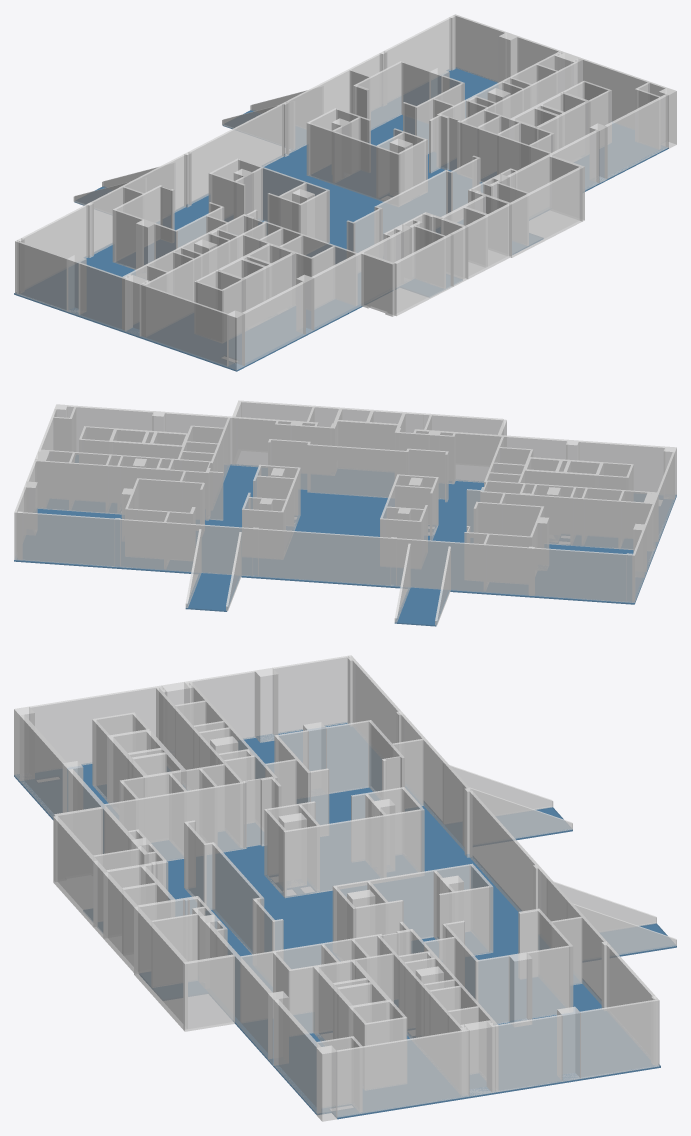
The model's file is 1FJC.glb.
3 renders of one model, top to bottom at view 1: azimuth 30°, elevation 25°; view 2: azimuth 150°, elevation 25°; view 3: azimuth 270°, elevation 25°, orthographic. The views are drawn at different scales.
Parts seen in each view (by area): view 1: 楼板 建筑做法110 [2354585].41, 基本墙 钢筋混凝土 F1 300 [2359620].139, 基本墙 轻钢龙骨石膏板墙 F1 200 [2420925].172, 基本墙 轻钢龙骨石膏板墙 F1 200 [2356234].49, 基本墙 轻钢龙骨石膏板墙 F1 200 [2358266].125, 基本墙 轻钢龙骨石膏板墙 F1 200 [2420795].171, 基本墙 钢筋混凝土 F1 300 [2359622].140, 基本墙 钢筋混凝土 F1 300 [2359632].145, 基本墙 轻钢龙骨石膏板墙 F1 300 [2358403].126, 基本墙 钢筋混凝土 F1 300 [2359630].144, 基本墙 轻钢龙骨石膏板墙 F1 200 [2421287].174, 基本墙 轻钢龙骨石膏板墙 F1 200 [2356253].67 (+49 smaller); view 2: 楼板 建筑做法110 [2354585].41, 基本墙 轻钢龙骨石膏板墙 F1 200 [2420925].172, 基本墙 轻钢龙骨石膏板墙 F1 200 [2420795].171, 基本墙 轻钢龙骨石膏板墙 F1 200 [2421287].174, 基本墙 轻钢龙骨石膏板墙 F1 200 [2356249].63, 基本墙 轻钢龙骨石膏板墙 F1 200 [2354484].12, 基本墙 钢筋混凝土 F1 300 [2359620].139, 基本墙 轻钢龙骨石膏板墙 F1 200 [2421195].173, 基本墙 轻钢龙骨石膏板墙 F1 200 [2357088].116, 基本墙 钢筋混凝土 F1 300 [2359632].145, 基本墙 轻钢龙骨石膏板墙 F1 300 [2358403].126, 基本墙 轻钢龙骨石膏板墙 F1 200 [2356245].60 (+48 smaller); view 3: 楼板 建筑做法110 [2354585].41, 基本墙 轻钢龙骨石膏板墙 F1 200 [2357079].108, 基本墙 轻钢龙骨石膏板墙 F1 200 [2420528].168, 基本墙 钢筋混凝土 F1 300 [2359620].139, 基本墙 轻钢龙骨石膏板墙 F1 200 [2354488].16, 基本墙 轻钢龙骨石膏板墙 F1 200 [2420925].172, 基本墙 轻钢龙骨石膏板墙 F1 200 [2356231].46, 基本墙 轻钢龙骨石膏板墙 F1 200 [2358266].125, 基本墙 轻钢龙骨石膏板墙 F1 200 [2420393].167, 基本墙 轻钢龙骨石膏板墙 F1 200 [2357982].123, 基本墙 轻钢龙骨石膏板墙 F1 200 [2420795].171, 基本墙 钢筋混凝土 F1 300 [2359622].140 (+68 smaller).
Part boxes in pixels (bbox=[...]): 楼板 建筑做法110 [2354585].41: bbox=[14, 67, 668, 371]; 基本墙 钢筋混凝土 F1 300 [2359620].139: bbox=[490, 94, 668, 197]; 基本墙 轻钢龙骨石膏板墙 F1 200 [2420925].172: bbox=[21, 154, 185, 258]; 基本墙 轻钢龙骨石膏板墙 F1 200 [2356234].49: bbox=[308, 123, 400, 201]; 基本墙 轻钢龙骨石膏板墙 F1 200 [2358266].125: bbox=[139, 283, 227, 366]; 基本墙 轻钢龙骨石膏板墙 F1 200 [2420795].171: bbox=[188, 103, 283, 204]; 基本墙 钢筋混凝土 F1 300 [2359622].140: bbox=[509, 167, 582, 257]; 基本墙 钢筋混凝土 F1 300 [2359632].145: bbox=[311, 231, 403, 330]; 基本墙 轻钢龙骨石膏板墙 F1 300 [2358403].126: bbox=[242, 281, 305, 365]; 基本墙 钢筋混凝土 F1 300 [2359630].144: bbox=[394, 233, 453, 316]; 基本墙 轻钢龙骨石膏板墙 F1 200 [2421287].174: bbox=[286, 53, 381, 153]; 基本墙 轻钢龙骨石膏板墙 F1 200 [2356253].67: bbox=[458, 121, 551, 182]; 楼板 建筑做法110 [2354585].41: bbox=[14, 464, 676, 626]; 基本墙 轻钢龙骨石膏板墙 F1 200 [2420925].172: bbox=[396, 538, 626, 602]; 基本墙 轻钢龙骨石膏板墙 F1 200 [2420795].171: bbox=[258, 528, 390, 585]; 基本墙 轻钢龙骨石膏板墙 F1 200 [2421287].174: bbox=[120, 519, 252, 576]; 基本墙 轻钢龙骨石膏板墙 F1 200 [2356249].63: bbox=[35, 460, 209, 520]; 基本墙 轻钢龙骨石膏板墙 F1 200 [2354484].12: bbox=[480, 491, 652, 550]; 基本墙 钢筋混凝土 F1 300 [2359620].139: bbox=[67, 405, 315, 467]; 基本墙 轻钢龙骨石膏板墙 F1 200 [2421195].173: bbox=[16, 511, 114, 566]; 基本墙 轻钢龙骨石膏板墙 F1 200 [2357088].116: bbox=[307, 444, 406, 498]; 基本墙 钢筋混凝土 F1 300 [2359632].145: bbox=[440, 431, 567, 482]; 基本墙 轻钢龙骨石膏板墙 F1 300 [2358403].126: bbox=[578, 440, 665, 492]; 基本墙 轻钢龙骨石膏板墙 F1 200 [2356245].60: bbox=[139, 478, 204, 524]; 楼板 建筑做法110 [2354585].41: bbox=[14, 722, 676, 1119]; 基本墙 轻钢龙骨石膏板墙 F1 200 [2357079].108: bbox=[283, 809, 421, 898]; 基本墙 轻钢龙骨石膏板墙 F1 200 [2420528].168: bbox=[336, 1029, 469, 1117]; 基本墙 钢筋混凝土 F1 300 [2359620].139: bbox=[193, 909, 320, 1113]; 基本墙 轻钢龙骨石膏板墙 F1 200 [2354488].16: bbox=[104, 782, 244, 861]; 基本墙 轻钢龙骨石膏板墙 F1 200 [2420925].172: bbox=[352, 660, 469, 853]; 基本墙 轻钢龙骨石膏板墙 F1 200 [2356231].46: bbox=[580, 999, 659, 1078]; 基本墙 轻钢龙骨石膏板墙 F1 200 [2358266].125: bbox=[29, 685, 162, 765]; 基本墙 轻钢龙骨石膏板墙 F1 200 [2420393].167: bbox=[491, 1014, 562, 1092]; 基本墙 轻钢龙骨石膏板墙 F1 200 [2357982].123: bbox=[273, 655, 349, 733]; 基本墙 轻钢龙骨石膏板墙 F1 200 [2420795].171: bbox=[469, 791, 537, 911]; 基本墙 钢筋混凝土 F1 300 [2359622].140: bbox=[134, 906, 187, 1029].
Bounding box in the file's own units: 58431 × 4610 × 40999.
